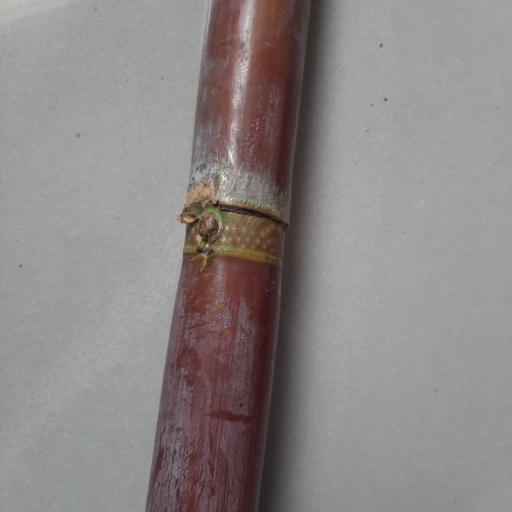Bud: (197, 213, 220, 241)
